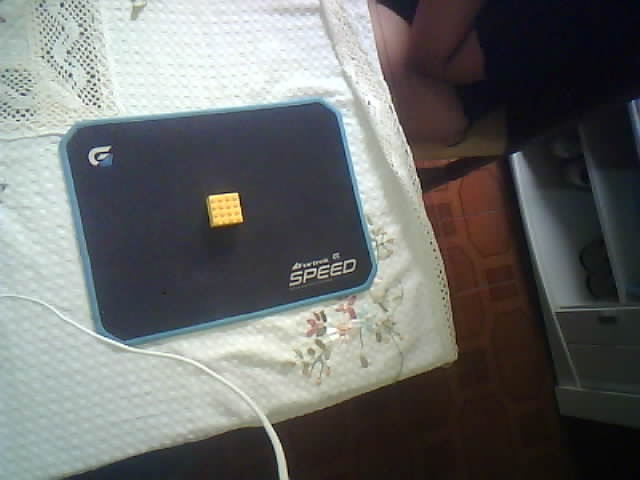lego: (205, 191, 244, 229)
